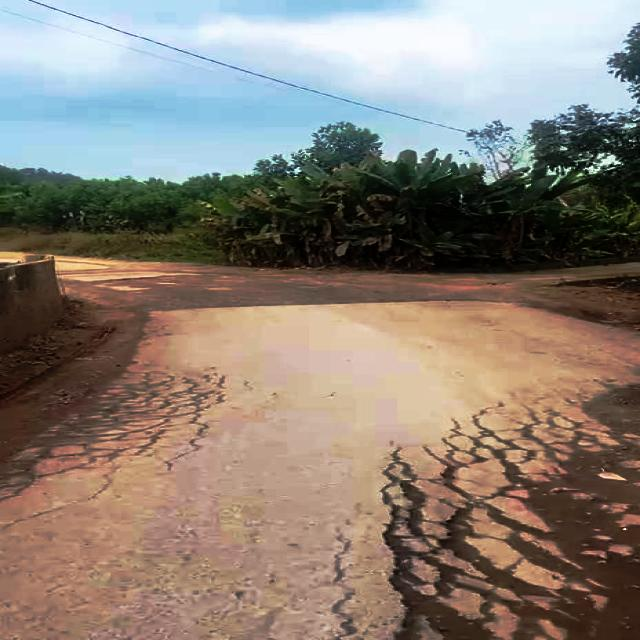pothole: (358, 373, 640, 640)
